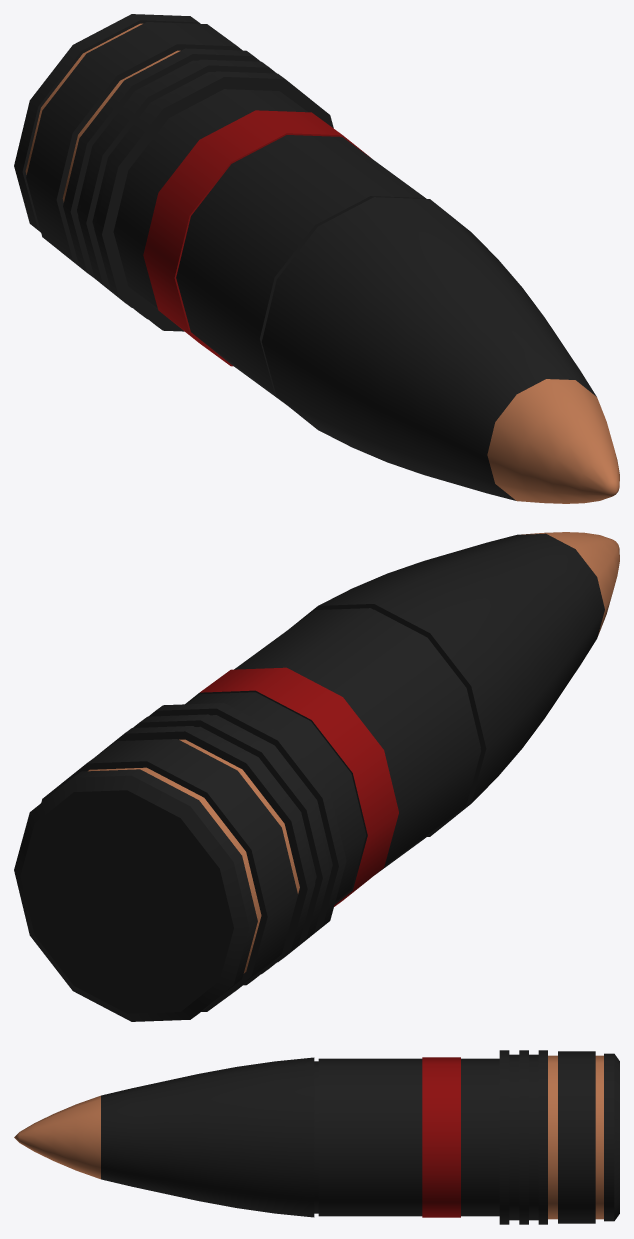
Rendered from proyectil-120mm.fbx.
3 views of the same model, one above another, from view 1: azimuth 30°, elevation 25°; view 2: azimuth 150°, elevation 25°; view 3: azimuth 270°, elevation 25° (orthographic). The views are drawn at different scales.
Visible parts, largest first — view 1: Proyectil; view 2: Proyectil; view 3: Proyectil.
Part boxes in pixels (x1,y1,x2,y2): Proyectil: (14,14,619,503); Proyectil: (14,532,619,1021); Proyectil: (14,1050,619,1224).
Size of the model in its own units: 0.1308 by 0.1308 by 0.4527.
